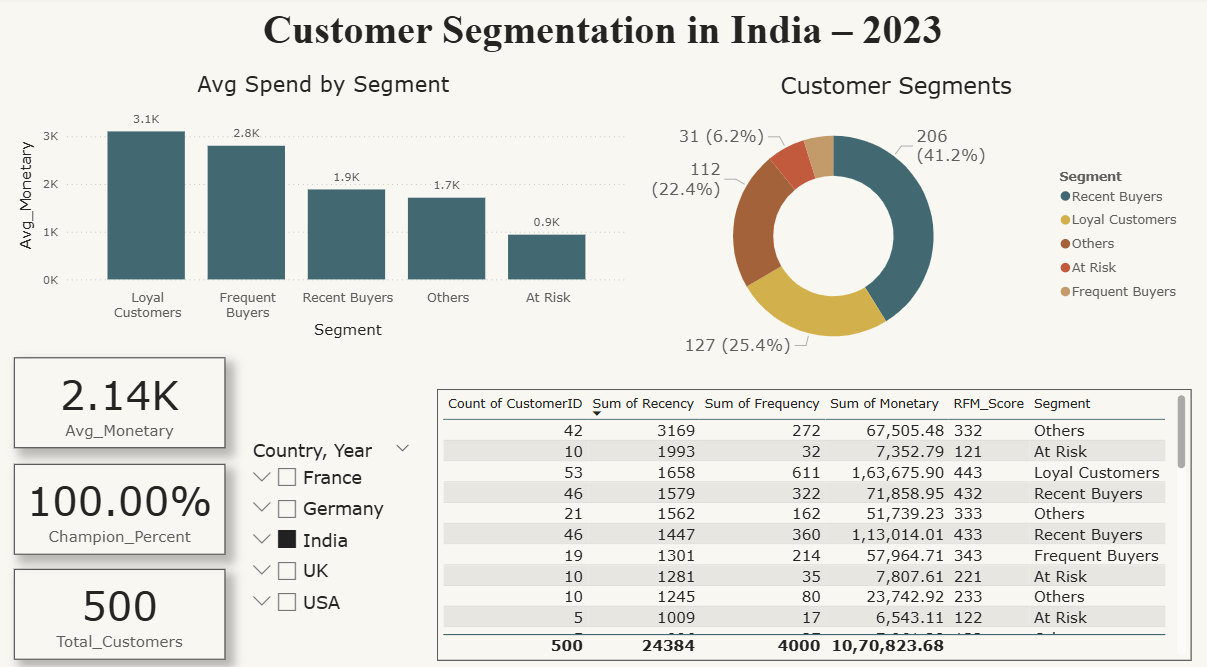

This screenshot's page, from the dashboard's own definition file:
{"tool":"powerbi","page":{"name":"Page 1","canvas":[1280,720],"ordinal":0},"visuals":[{"type":"donutChart","title":"Customer Segments","fields":{"Category":["RFM_Table.Segment"],"Y":["CountNonNull(RFM_Table.CustomerID)"]},"box":[640,80,624,320],"z":0},{"type":"tableEx","fields":{"Values":["CountNonNull(RFM_Table.CustomerID)","Sum(RFM_Table.Recency)","Sum(RFM_Table.Frequency)","Sum(RFM_Table.Monetary)","RFM_Table.RFM_Score","RFM_Table.Segment"]},"box":[464,416,800,288],"z":1000},{"type":"card","fields":{"Values":["CleanedData.Total_Customers"]},"box":[16,608,224,96],"z":2000},{"type":"card","fields":{"Values":["CleanedData.Avg_Monetary"]},"box":[16,384,224,96],"z":3000},{"type":"slicer","fields":{"Values":["CleanedData.Country","CleanedData.InvoiceDate.Variation.Date Hierarchy.Year"]},"box":[256,464,192,240],"z":4000},{"type":"columnChart","title":"Avg Spend by Segment","fields":{"Category":["RFM_Table.Segment"],"Y":["CleanedData.Avg_Monetary"]},"box":[16,80,656,288],"z":5000},{"type":"card","fields":{"Values":["CleanedData.DynamicTitle"]},"box":[0,0,1280,64],"z":6000},{"type":"card","fields":{"Values":["CleanedData.Champion_Percent"]},"box":[16,496,224,96],"z":7000}]}

Visuals, with their boxes in screenshot pixels (x1, y1, x2, y2), scaled from the page's 1280x720 canvas onto the 1207x667 screenshot:
"Customer Segments" donutChart: (604,74,1192,371)
tableEx - CountNonNull(RFM_Table.CustomerID) x Sum(RFM_Table.Recency): (438,385,1192,652)
card - CleanedData.Total_Customers: (15,563,226,652)
card - CleanedData.Avg_Monetary: (15,356,226,445)
slicer - CleanedData.Country x CleanedData.InvoiceDate.Variation.Date Hierarchy.Year: (241,430,422,652)
"Avg Spend by Segment" columnChart: (15,74,634,341)
card - CleanedData.DynamicTitle: (0,0,1206,59)
card - CleanedData.Champion_Percent: (15,459,226,548)
